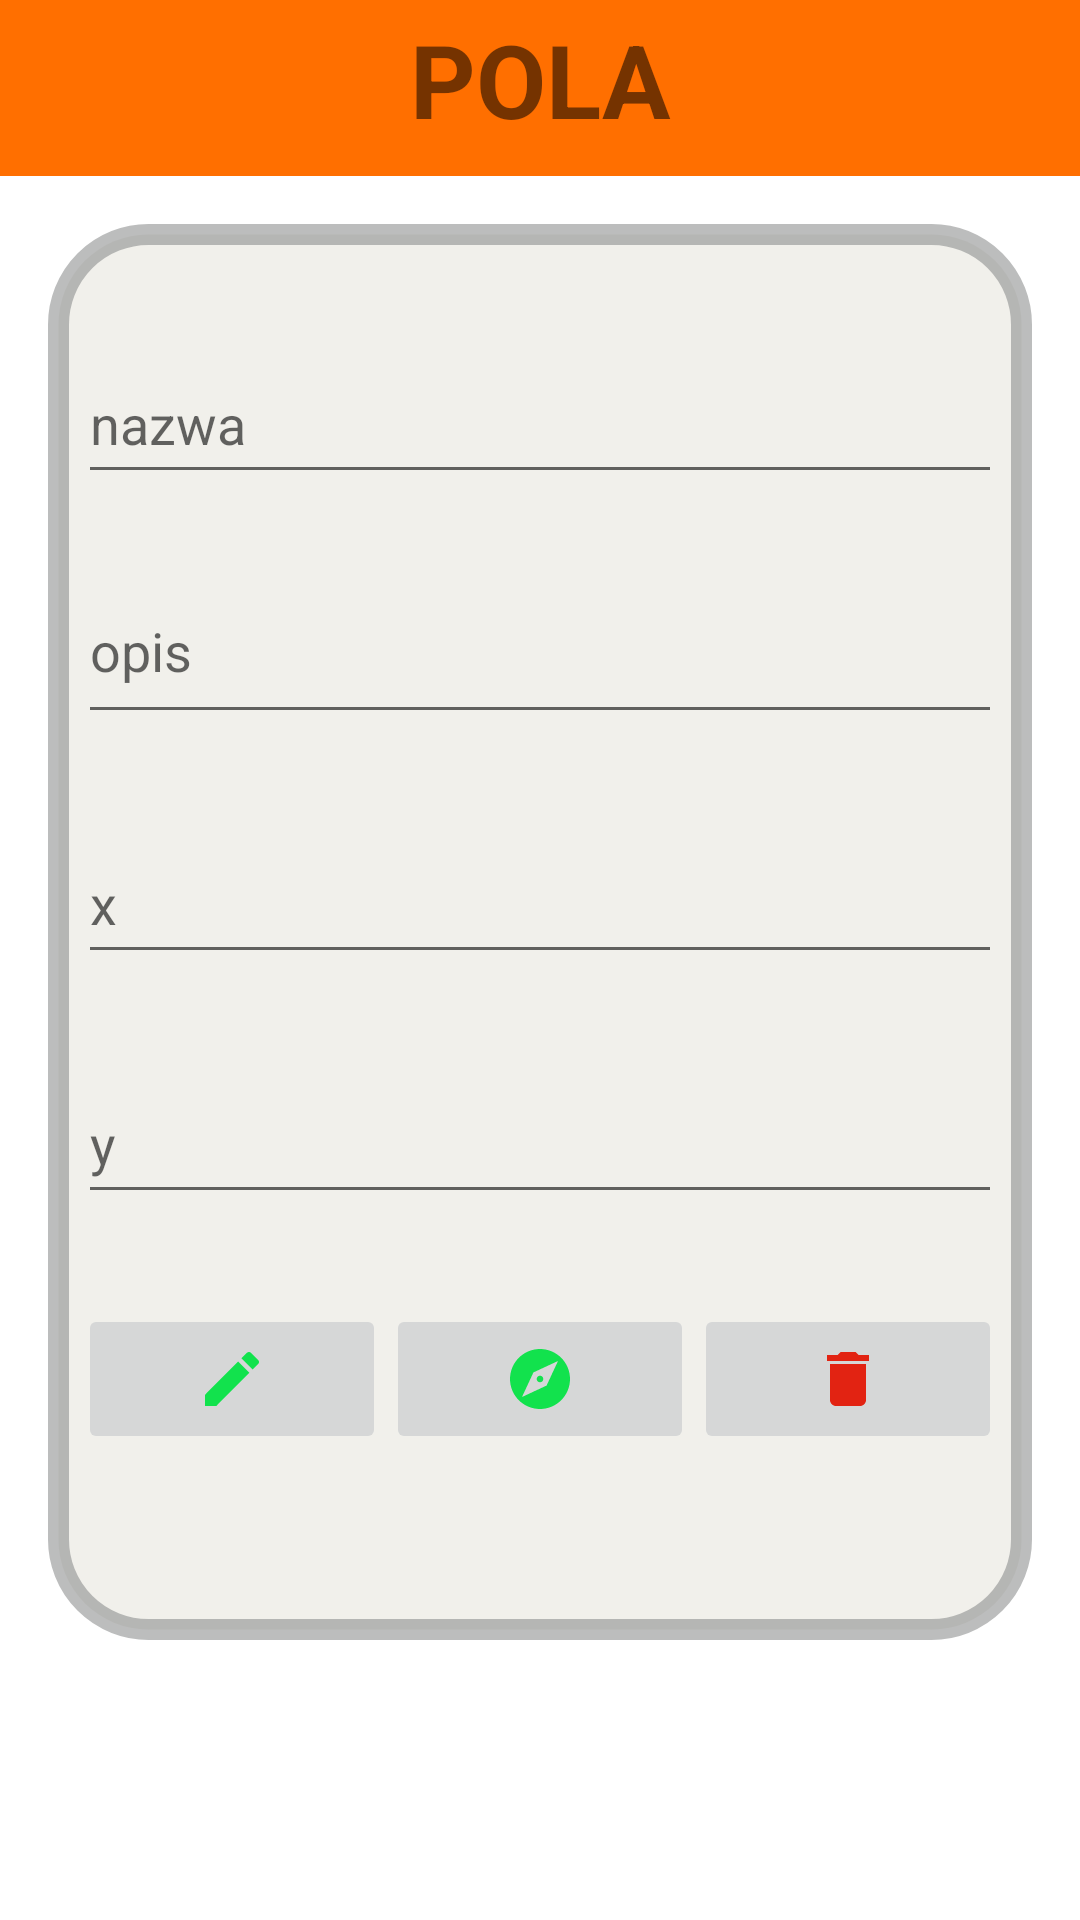

Icon bounding boxes for this 1080w x 1920h phone screenshot, format (x1, y1, x2, y2):
delete: (706, 1322, 990, 1436)
EDIT: (90, 1322, 374, 1436)
explore: (398, 1322, 682, 1436)
